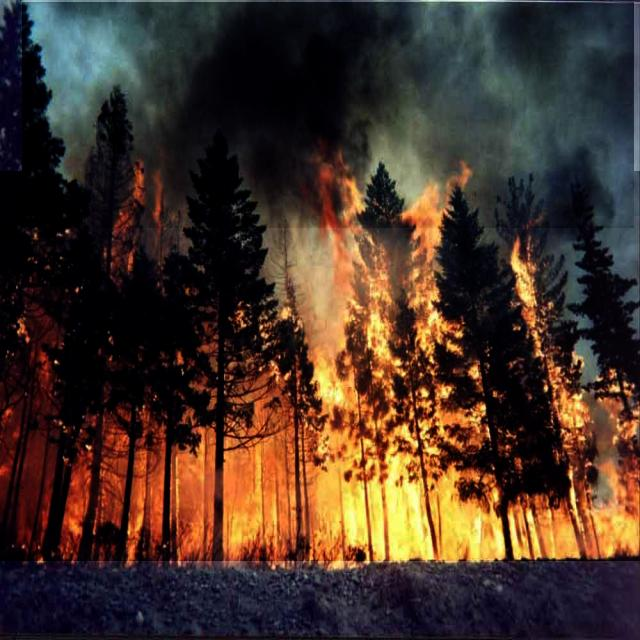Fire: (0, 171, 640, 561)
Smoke: (22, 2, 634, 228), (172, 12, 376, 199)
